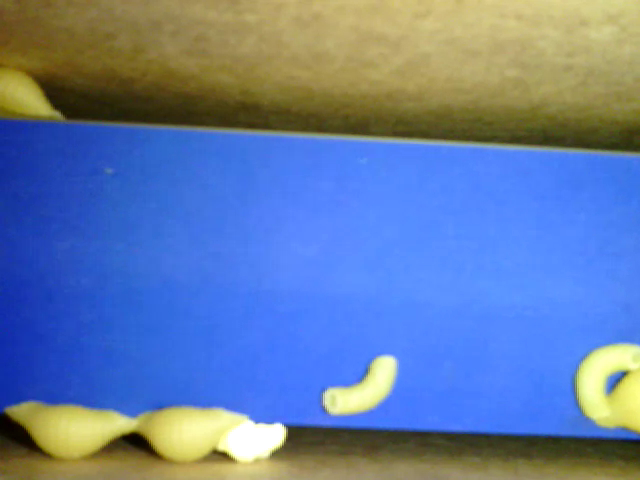elbow: (320, 353, 403, 414), (575, 341, 639, 418)
shell: (7, 400, 135, 460), (125, 405, 251, 462), (2, 64, 71, 127)
